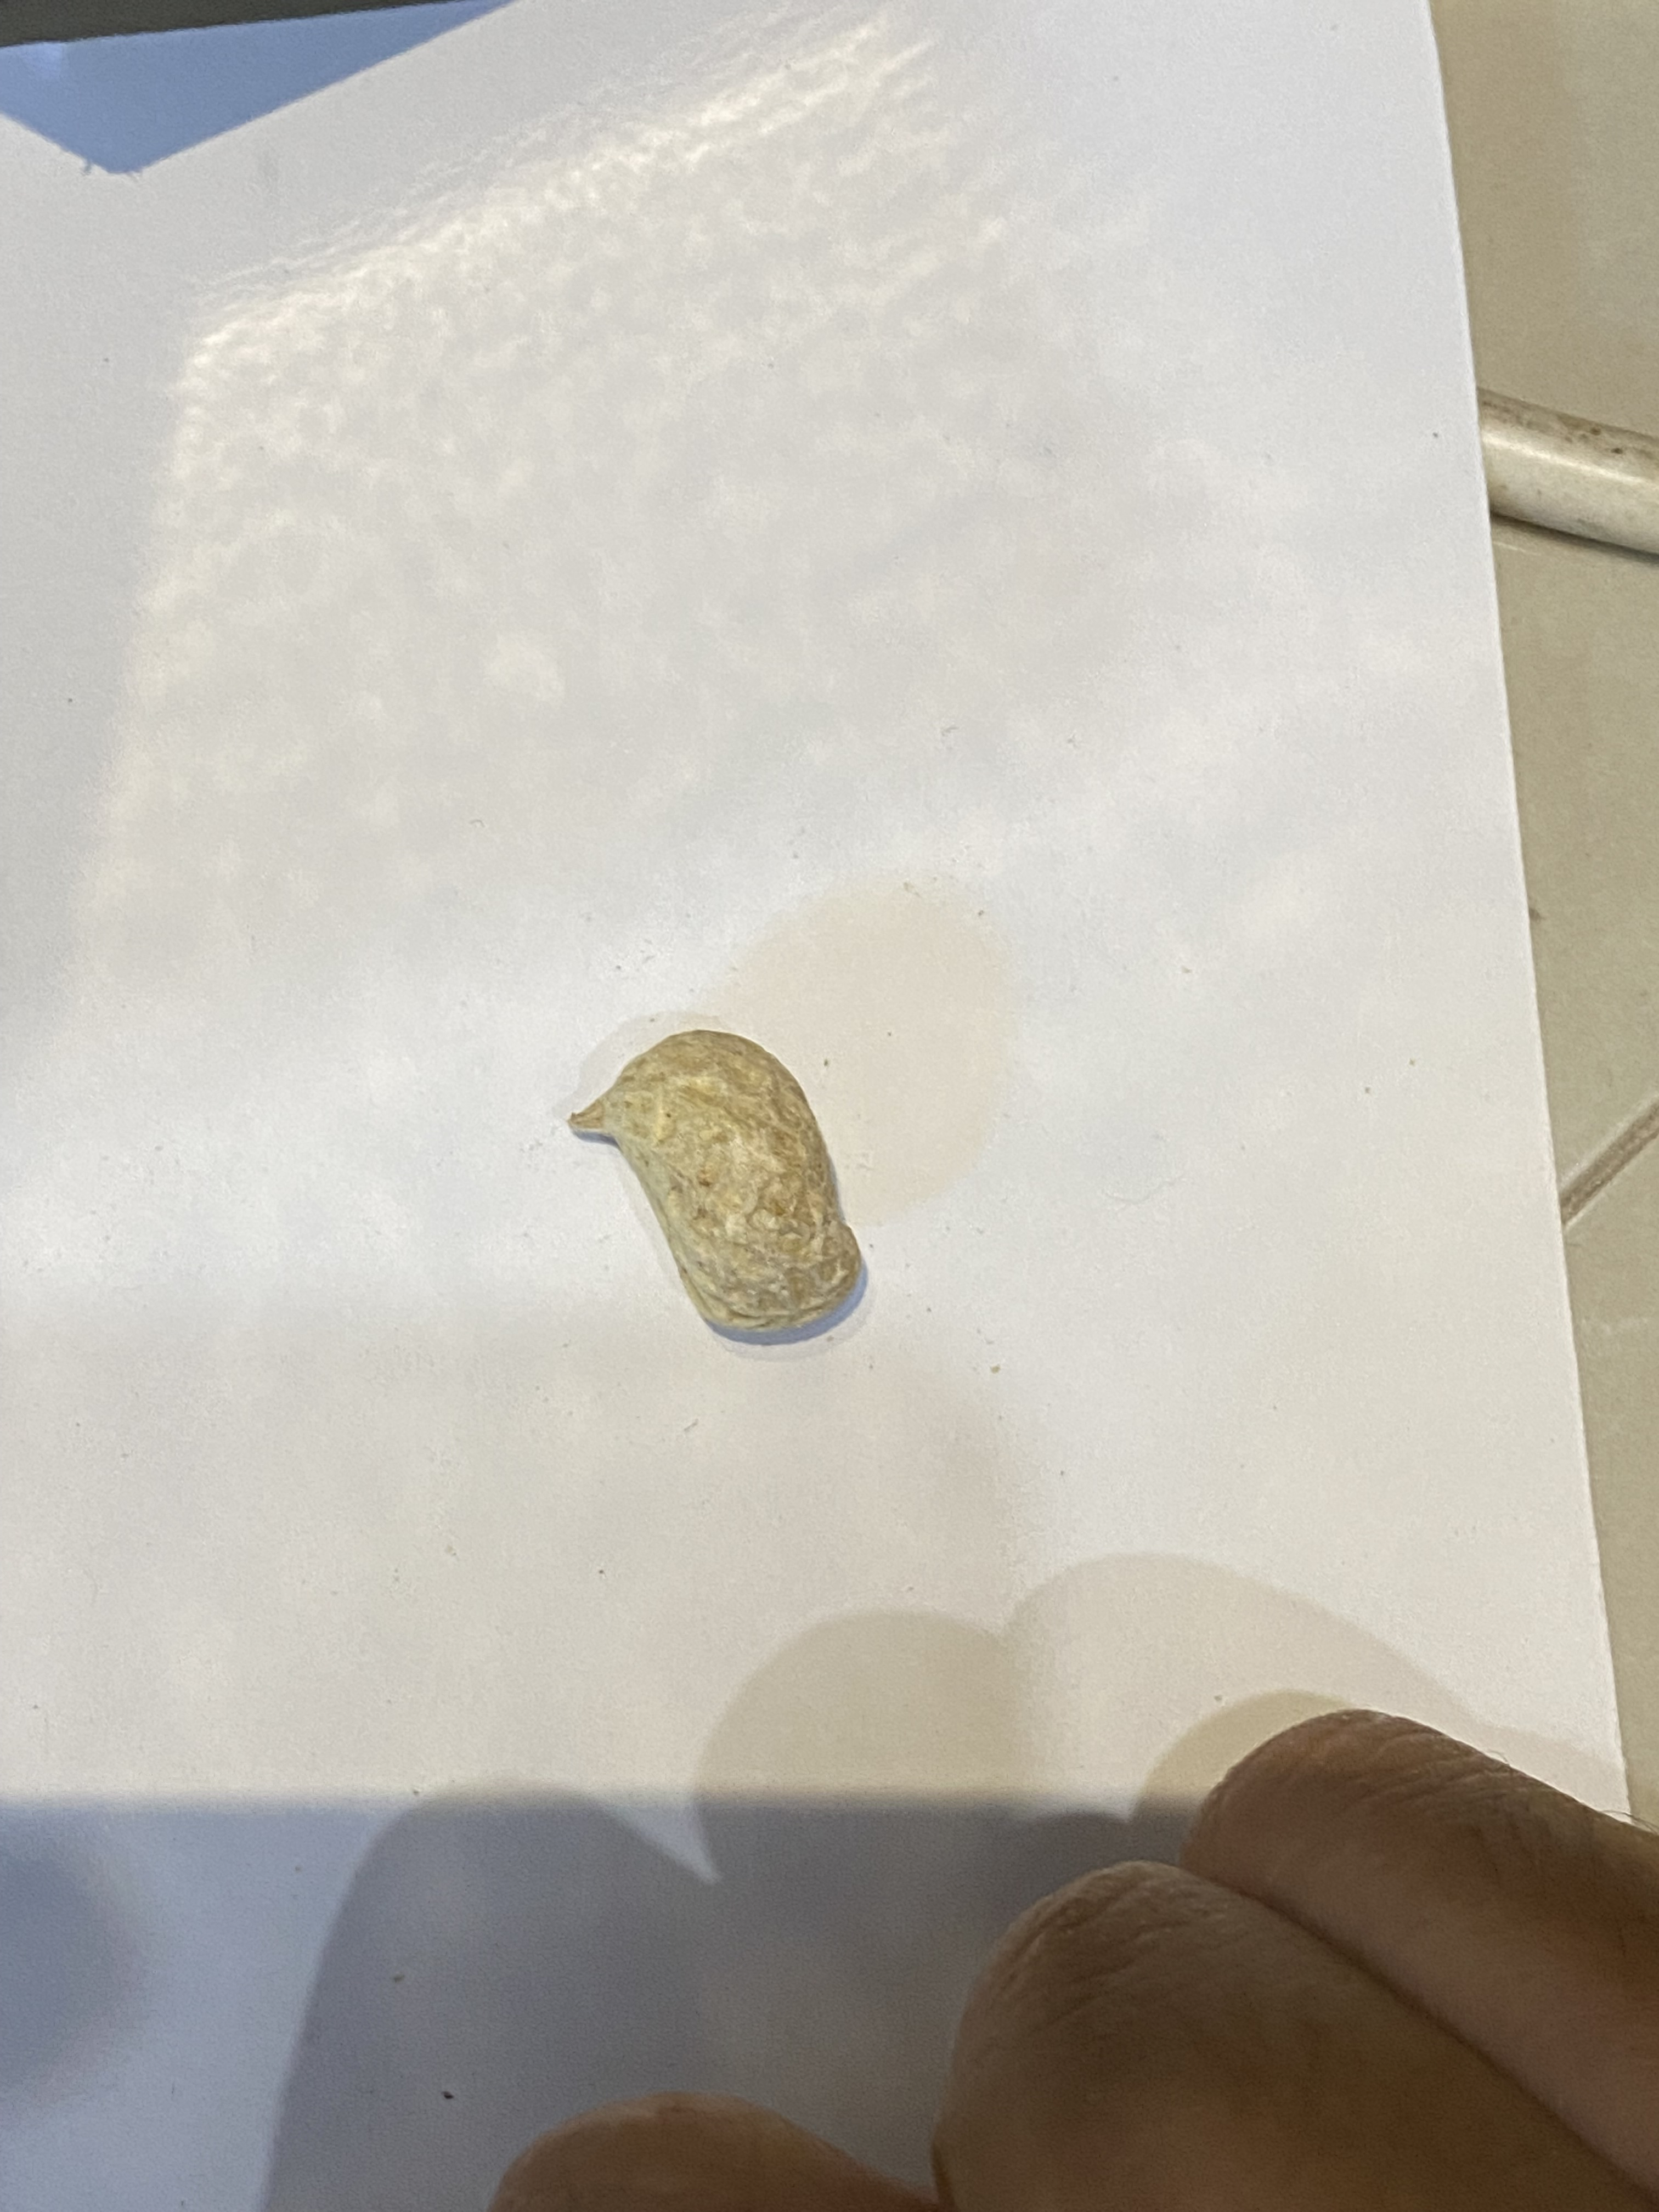kacang1: (563, 1028, 868, 1346)
